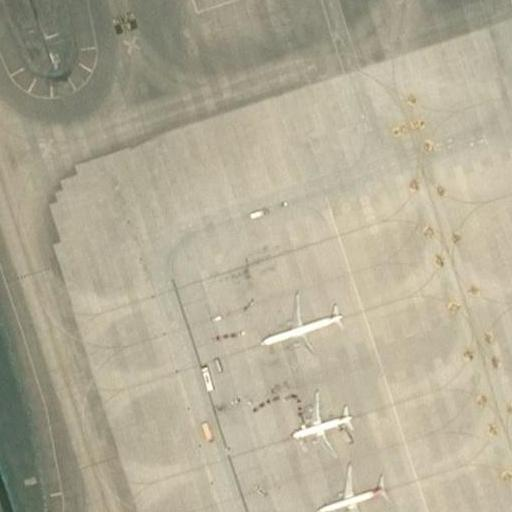Aircraft: (251, 291, 350, 357), (283, 390, 358, 452), (313, 467, 391, 512)
